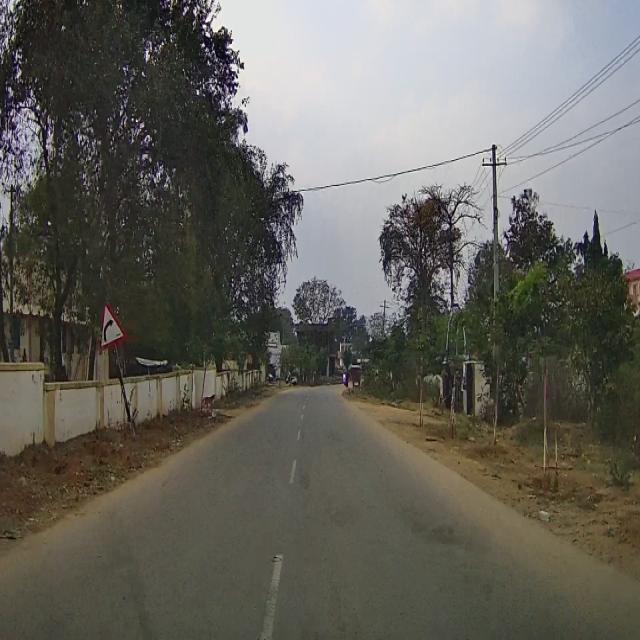sign board ahead at: (98, 304, 122, 355)
